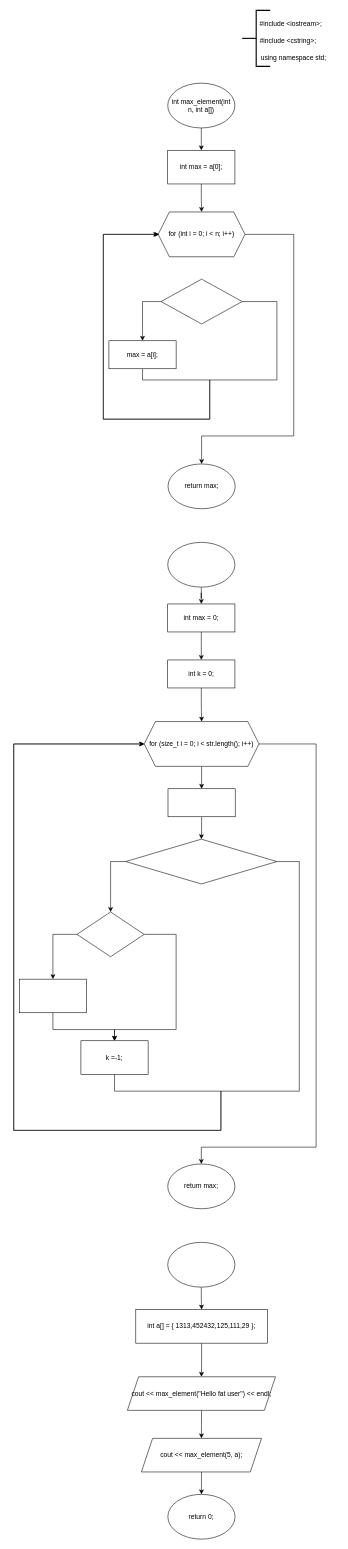
Image size: 348x1549. Some labels were removed from this diagram. Each missing label, with the box of its shape:
if (a[i] > max): (160, 279, 242, 324)
if (k > max): (76, 911, 144, 957)
if (str[i + 1] == ' ' || str[i + 1] == '\0'): (125, 839, 277, 884)
int main(): (167, 1242, 235, 1287)
k++;: (167, 788, 235, 817)
max = k;: (19, 979, 87, 1013)
size_t max_element(string str): (167, 542, 235, 587)
